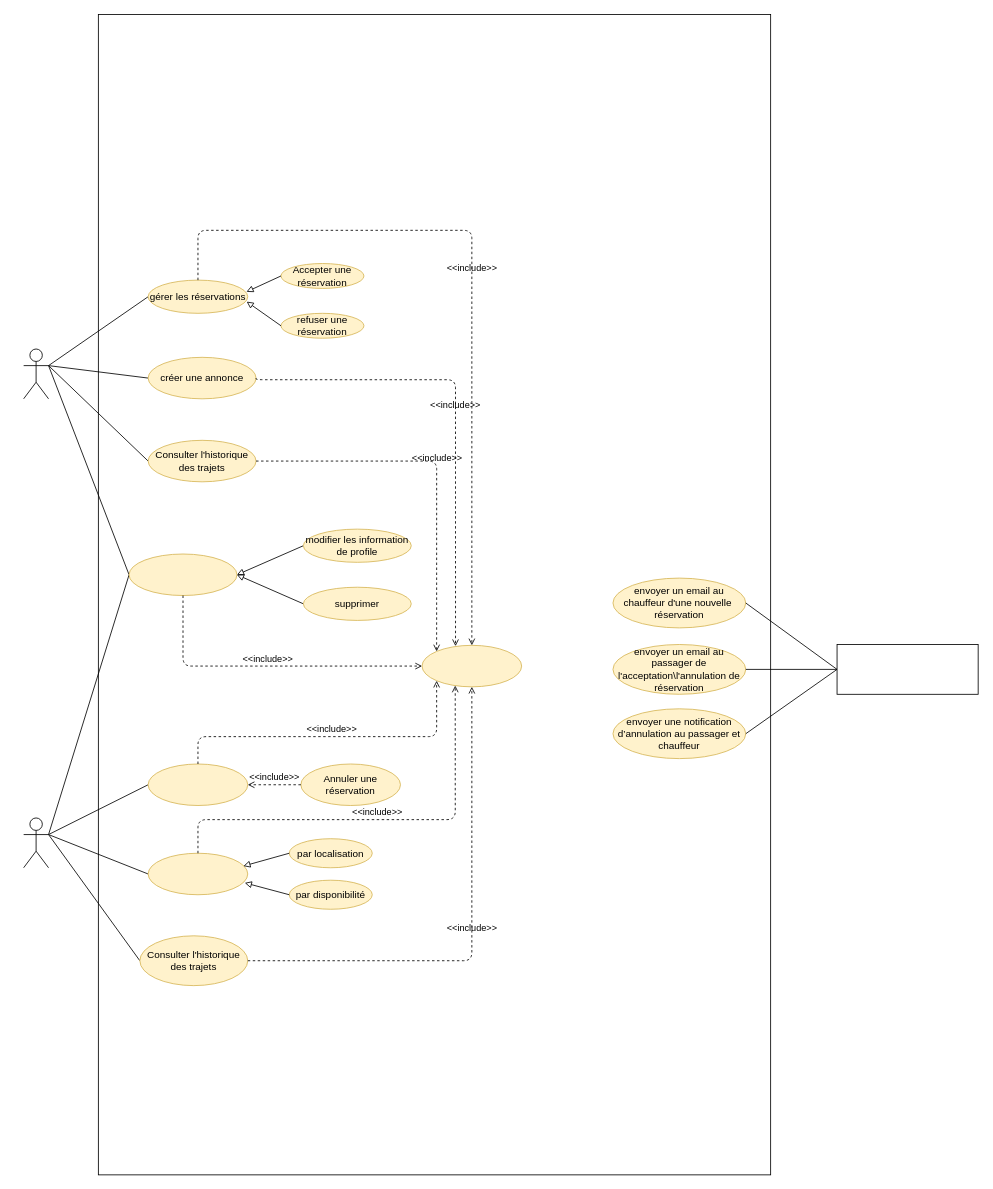
The diagram is 993 pixels wide and 1189 high, and some of its shapes have lost their labels. Each missing label, with the box of its shape:
<<acteur secondaire>> systeme: (836, 644, 978, 694)
authentication: (421, 644, 522, 687)
Chauffeur: (23, 348, 49, 399)
Filtrer les chauffeurs: (147, 852, 248, 895)
gérer son profile: (128, 553, 237, 596)
Passager: (23, 817, 49, 868)
Réserver un taxi: (147, 763, 248, 806)
